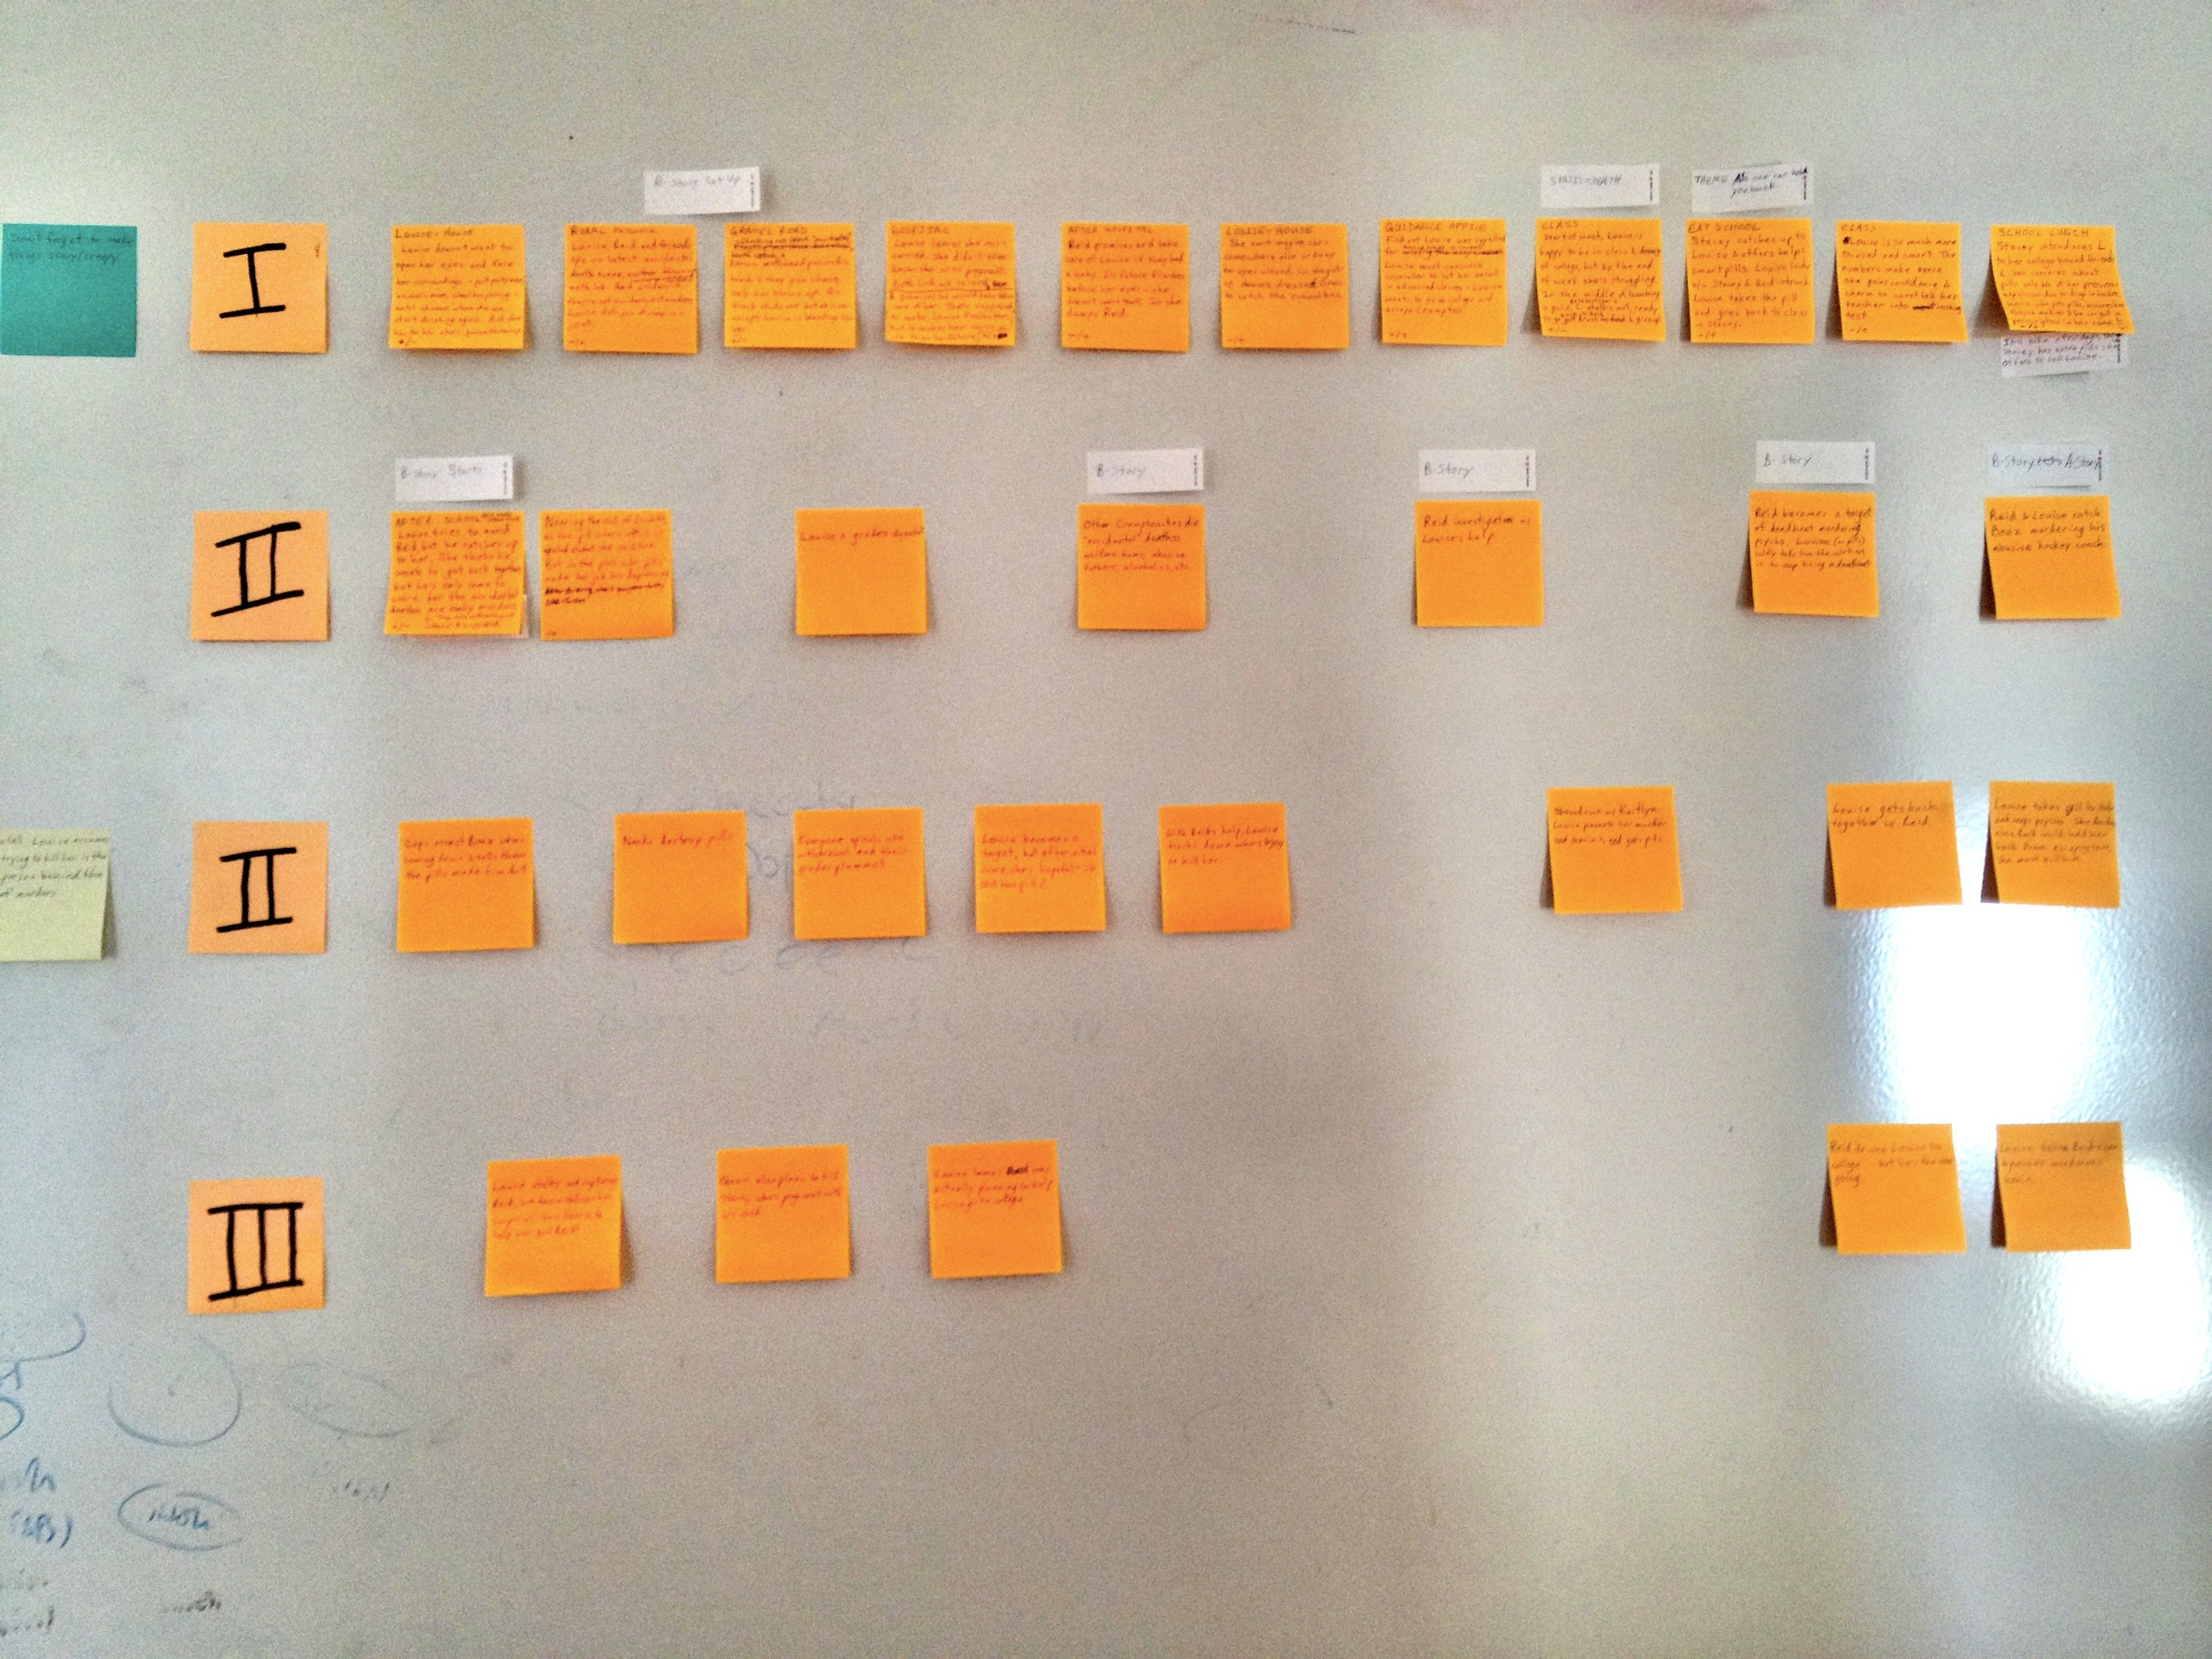stickynote: (1814, 1103, 1980, 1269), (710, 1132, 867, 1296), (1, 209, 159, 371), (174, 813, 338, 968), (1143, 793, 1296, 957), (596, 806, 762, 955), (170, 1173, 332, 1326), (177, 502, 341, 653), (478, 1147, 629, 1309), (393, 813, 548, 966), (918, 1132, 1071, 1287), (960, 793, 1112, 948), (550, 211, 705, 365), (1971, 764, 2133, 911), (780, 797, 937, 946), (1536, 777, 1696, 924), (1987, 1110, 2139, 1263), (1812, 766, 1963, 918), (380, 213, 533, 362), (1053, 213, 1202, 367), (714, 213, 867, 360), (181, 216, 338, 360), (1069, 497, 1217, 647), (1408, 489, 1554, 640), (880, 205, 1023, 358), (789, 502, 937, 649), (1825, 209, 1973, 356), (1213, 213, 1359, 360), (531, 500, 675, 649), (1744, 487, 1891, 631), (1971, 493, 2127, 629), (1370, 211, 1515, 353), (384, 504, 533, 644), (1, 813, 129, 968), (1683, 213, 1820, 358), (1530, 216, 1670, 353), (1984, 220, 2144, 340), (1996, 321, 2144, 386), (1982, 430, 2123, 493), (636, 159, 776, 218), (1687, 157, 1820, 218), (1748, 432, 1888, 489), (384, 449, 522, 506), (1412, 441, 1547, 495), (1534, 163, 1672, 213), (1084, 445, 1213, 493)
